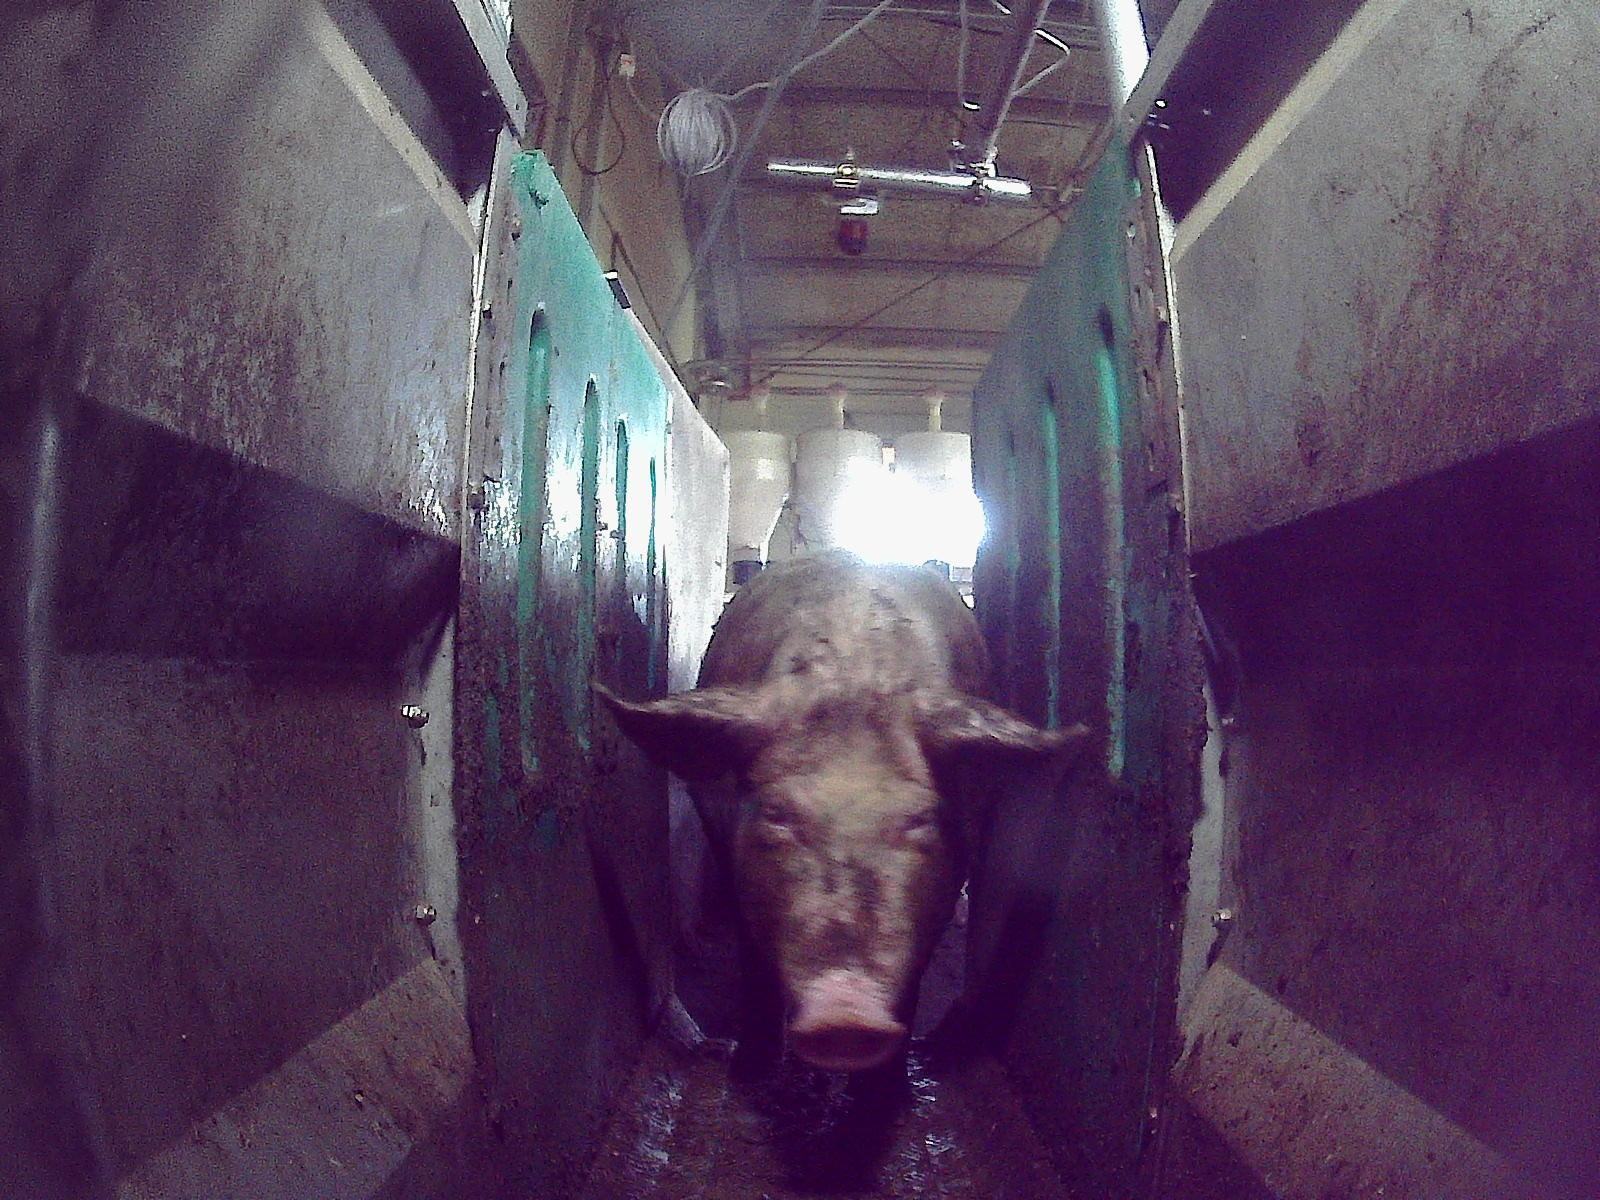Face: (726, 677, 963, 1067)
